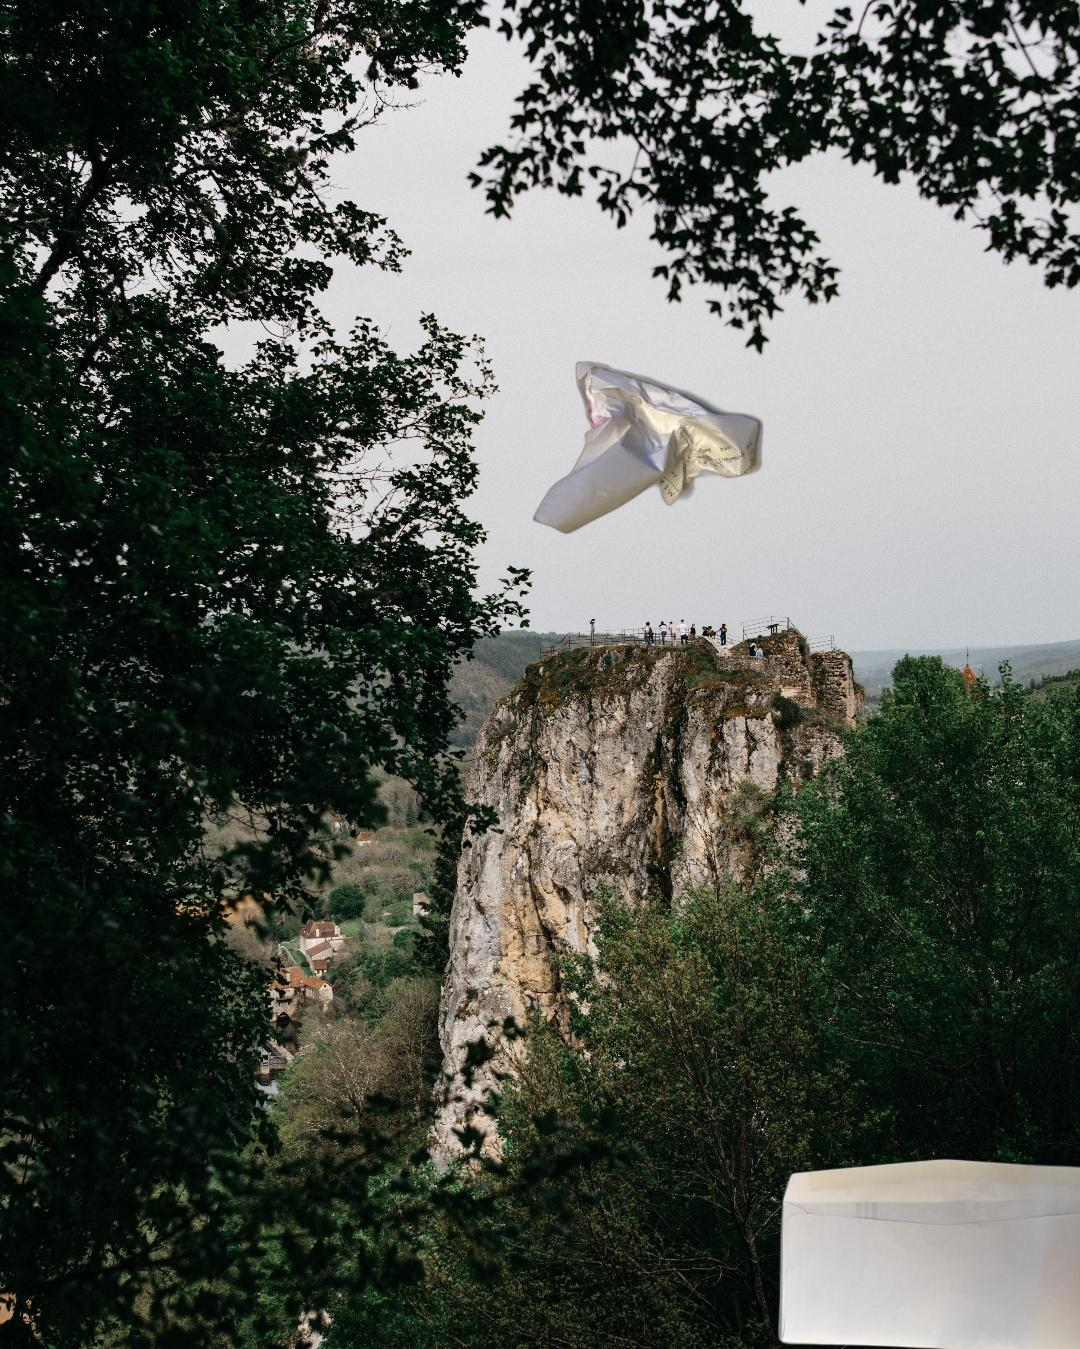paper: (773, 1156, 1080, 1349), (528, 359, 767, 537)
